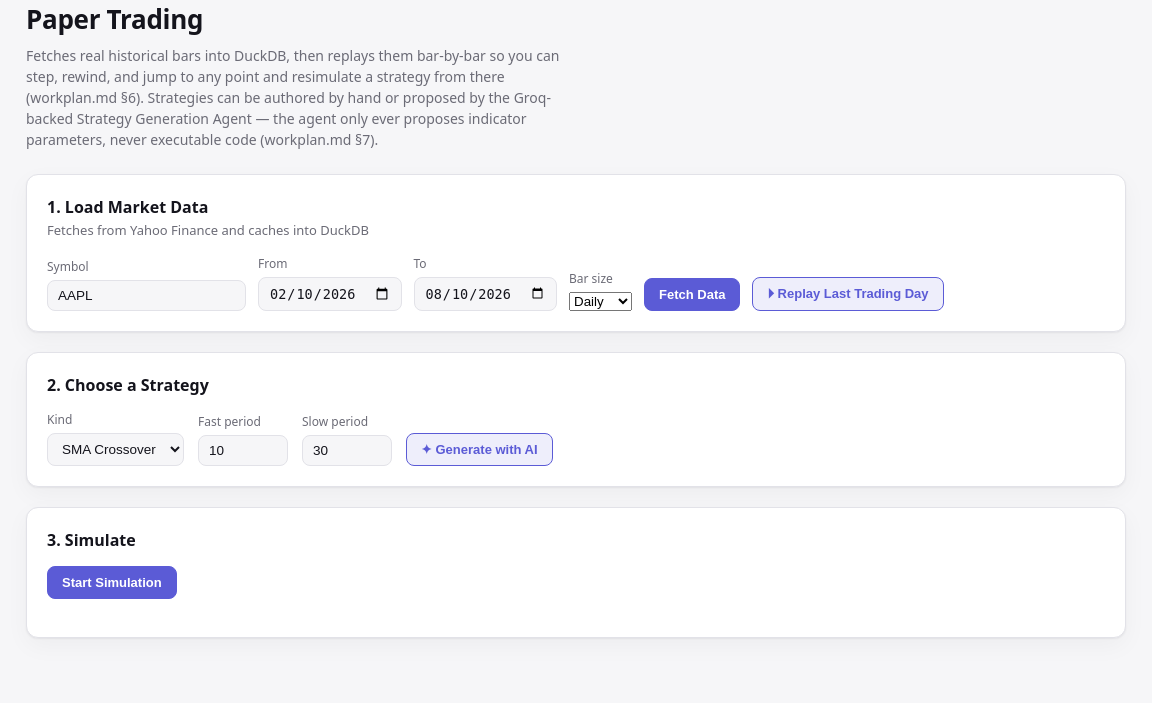
PaperTrading page › steps the simulation forward and reflects the new cursor
Click the button "Start Simulation" at [112, 582], box 47,566 -> 177,598
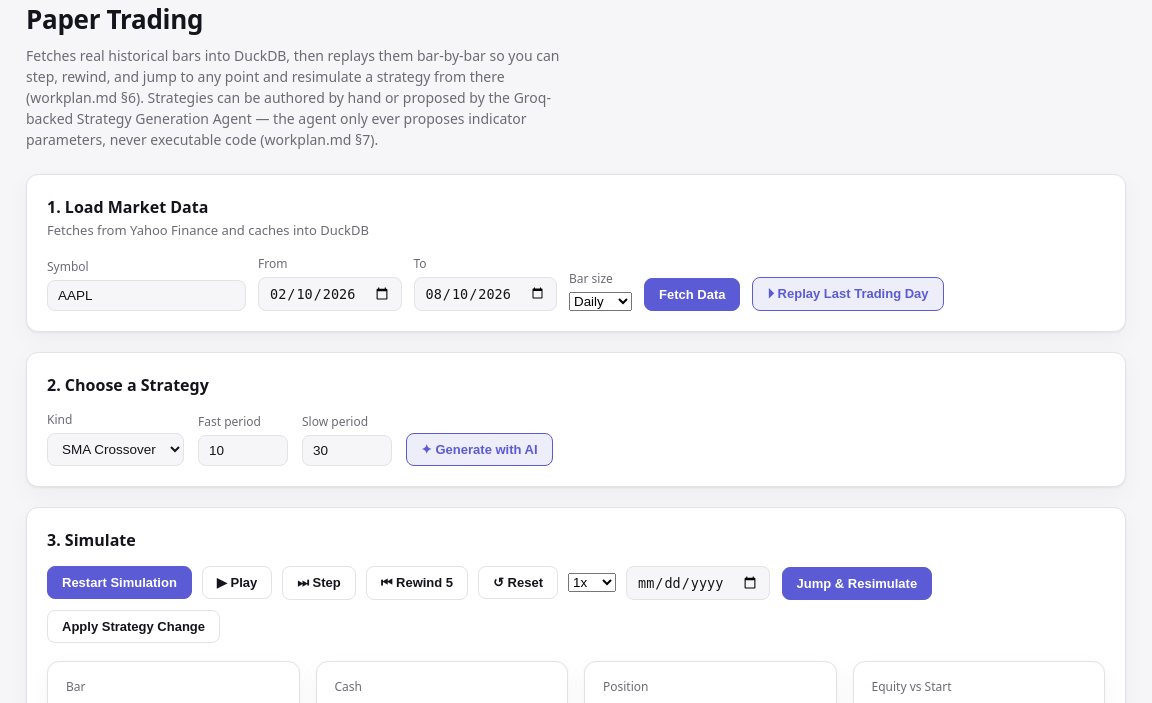
Click the button "⏭ Step" at [319, 582], box 282,566 -> 356,600
(page scrolled)
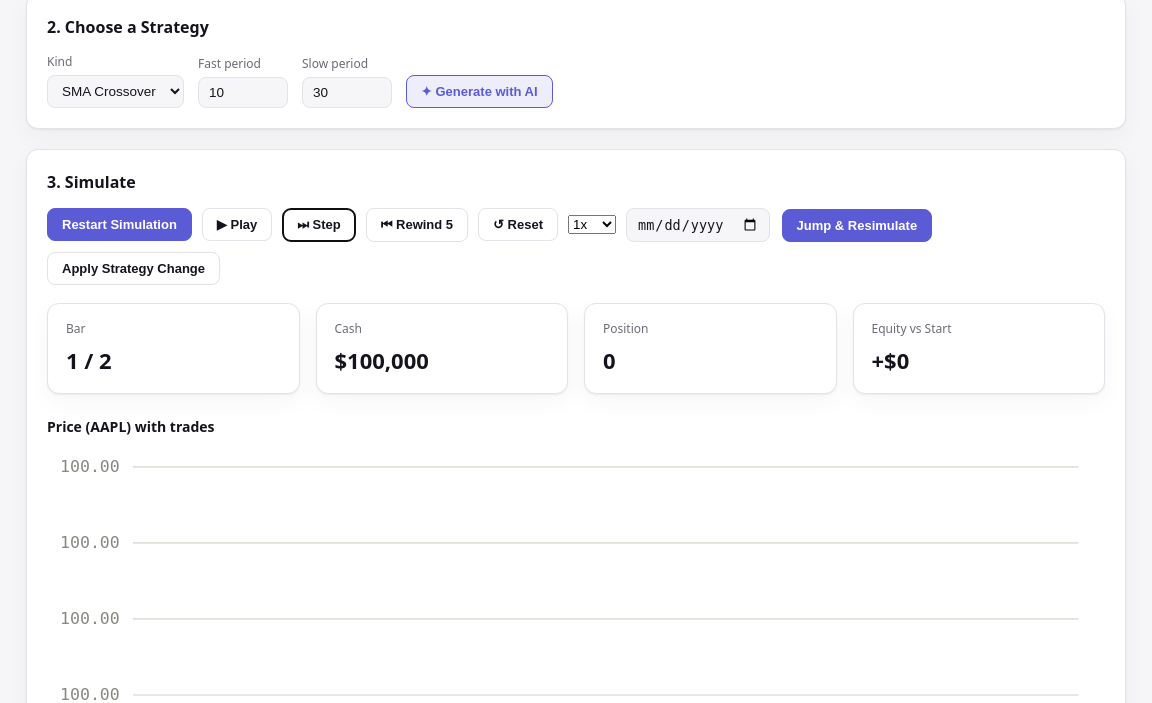
Now the text "1 / 2" is shown, box 66,344 -> 112,374
